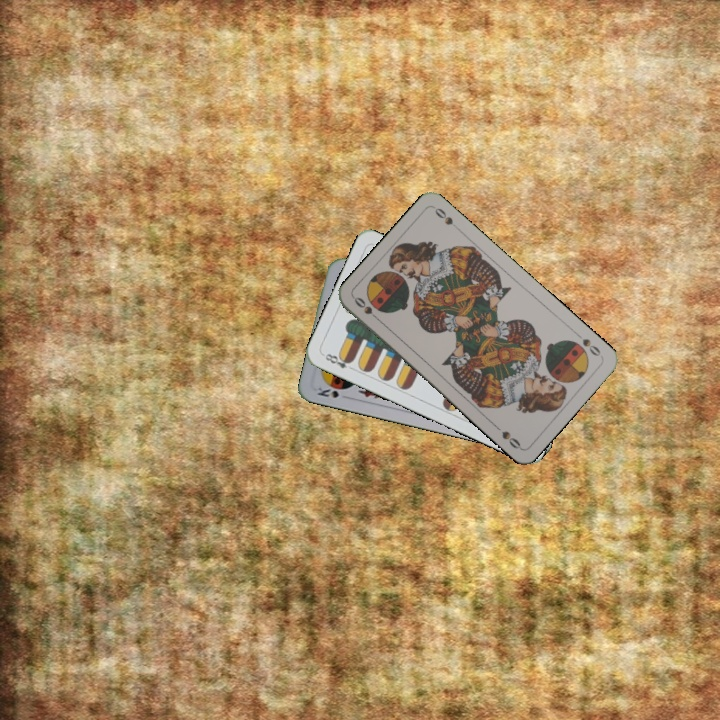E8: (319, 349, 357, 373)
SK: (313, 383, 341, 401)
SO: (350, 293, 383, 324), (572, 329, 603, 359)
